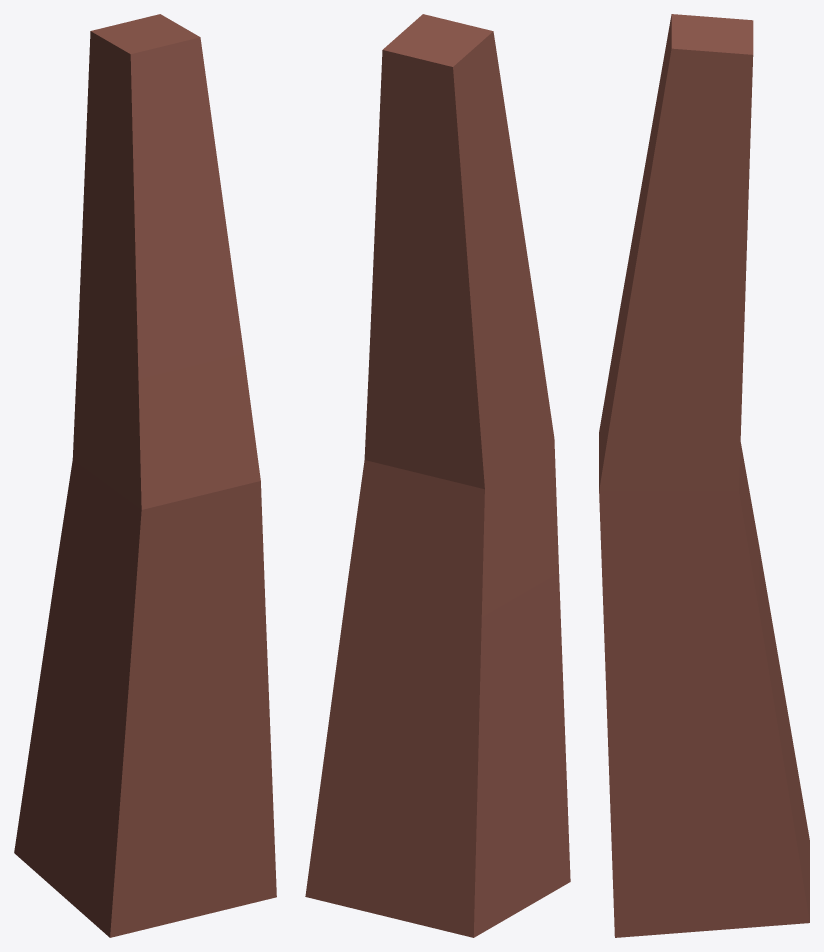
File: Trunk3_low.fbx
3 views of the same model, side by side, from view 1: azimuth 30°, elevation 25°; view 2: azimuth 150°, elevation 25°; view 3: azimuth 270°, elevation 25° (orthographic).
Parts seen in each view (by area): view 1: Trunk.005; view 2: Trunk.005; view 3: Trunk.005.
Part boxes in pixels (left/top/right/bottom): Trunk.005: left=14, top=14, right=276, bottom=937; Trunk.005: left=305, top=14, right=570, bottom=937; Trunk.005: left=599, top=14, right=809, bottom=937.
Size of the model in its own units: 13.77 by 67.14 by 14.83.
